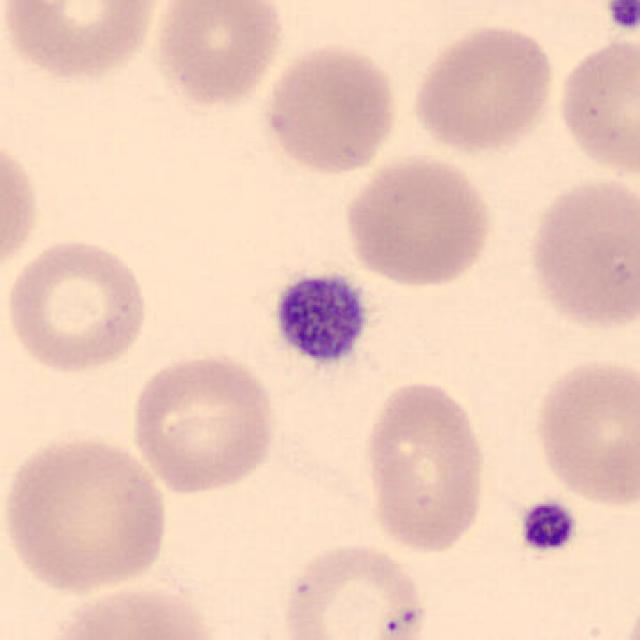Platelets: (266, 264, 372, 370), (516, 498, 580, 556), (602, 0, 640, 35)
RBC: (0, 428, 172, 597), (358, 374, 492, 557), (126, 347, 281, 499), (340, 150, 498, 291), (2, 234, 153, 376), (407, 19, 560, 157), (257, 39, 403, 178), (521, 171, 640, 335), (528, 353, 638, 511), (275, 537, 432, 640), (149, 0, 288, 111), (0, 0, 165, 83), (553, 32, 640, 183), (41, 578, 226, 640), (0, 129, 43, 289)
